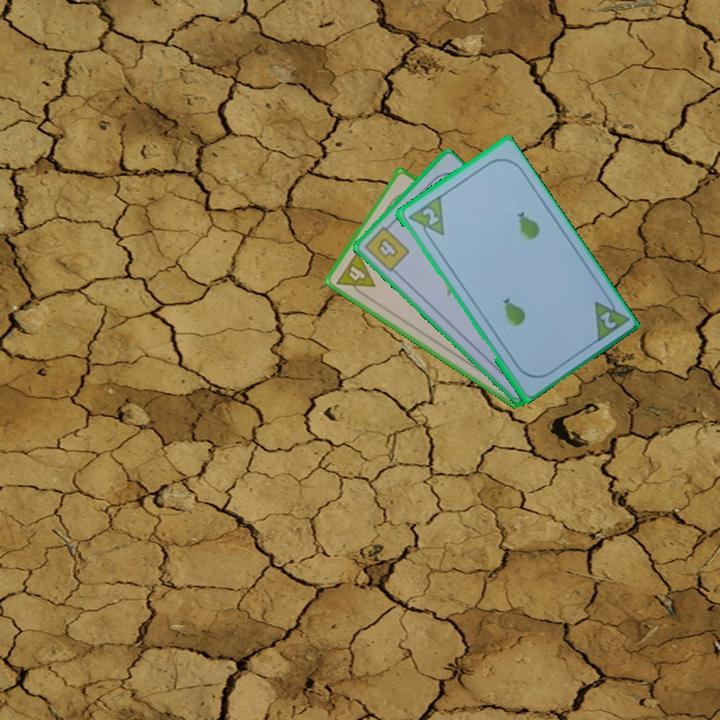2p: (418, 204, 441, 228), (596, 308, 619, 332)
4b: (360, 219, 412, 275)
4p: (332, 247, 378, 301)
